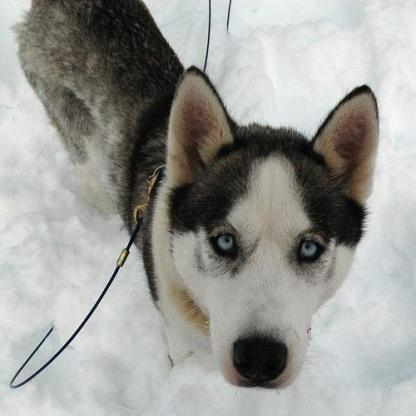Siberian_husky: (13, 0, 378, 389)
